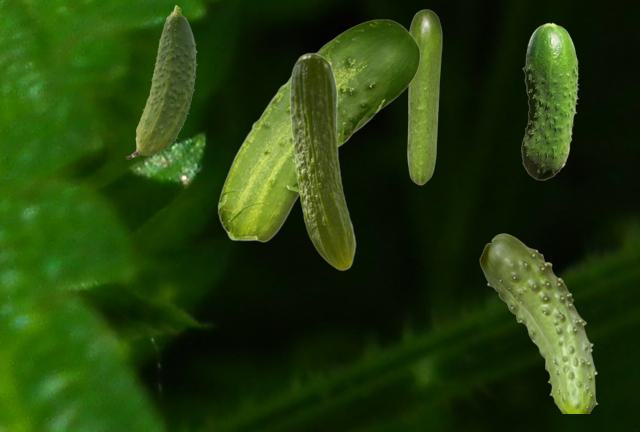cucumber: (217, 19, 419, 241), (479, 233, 597, 412), (289, 52, 355, 270), (126, 5, 196, 158), (521, 22, 578, 179), (407, 9, 441, 184)
